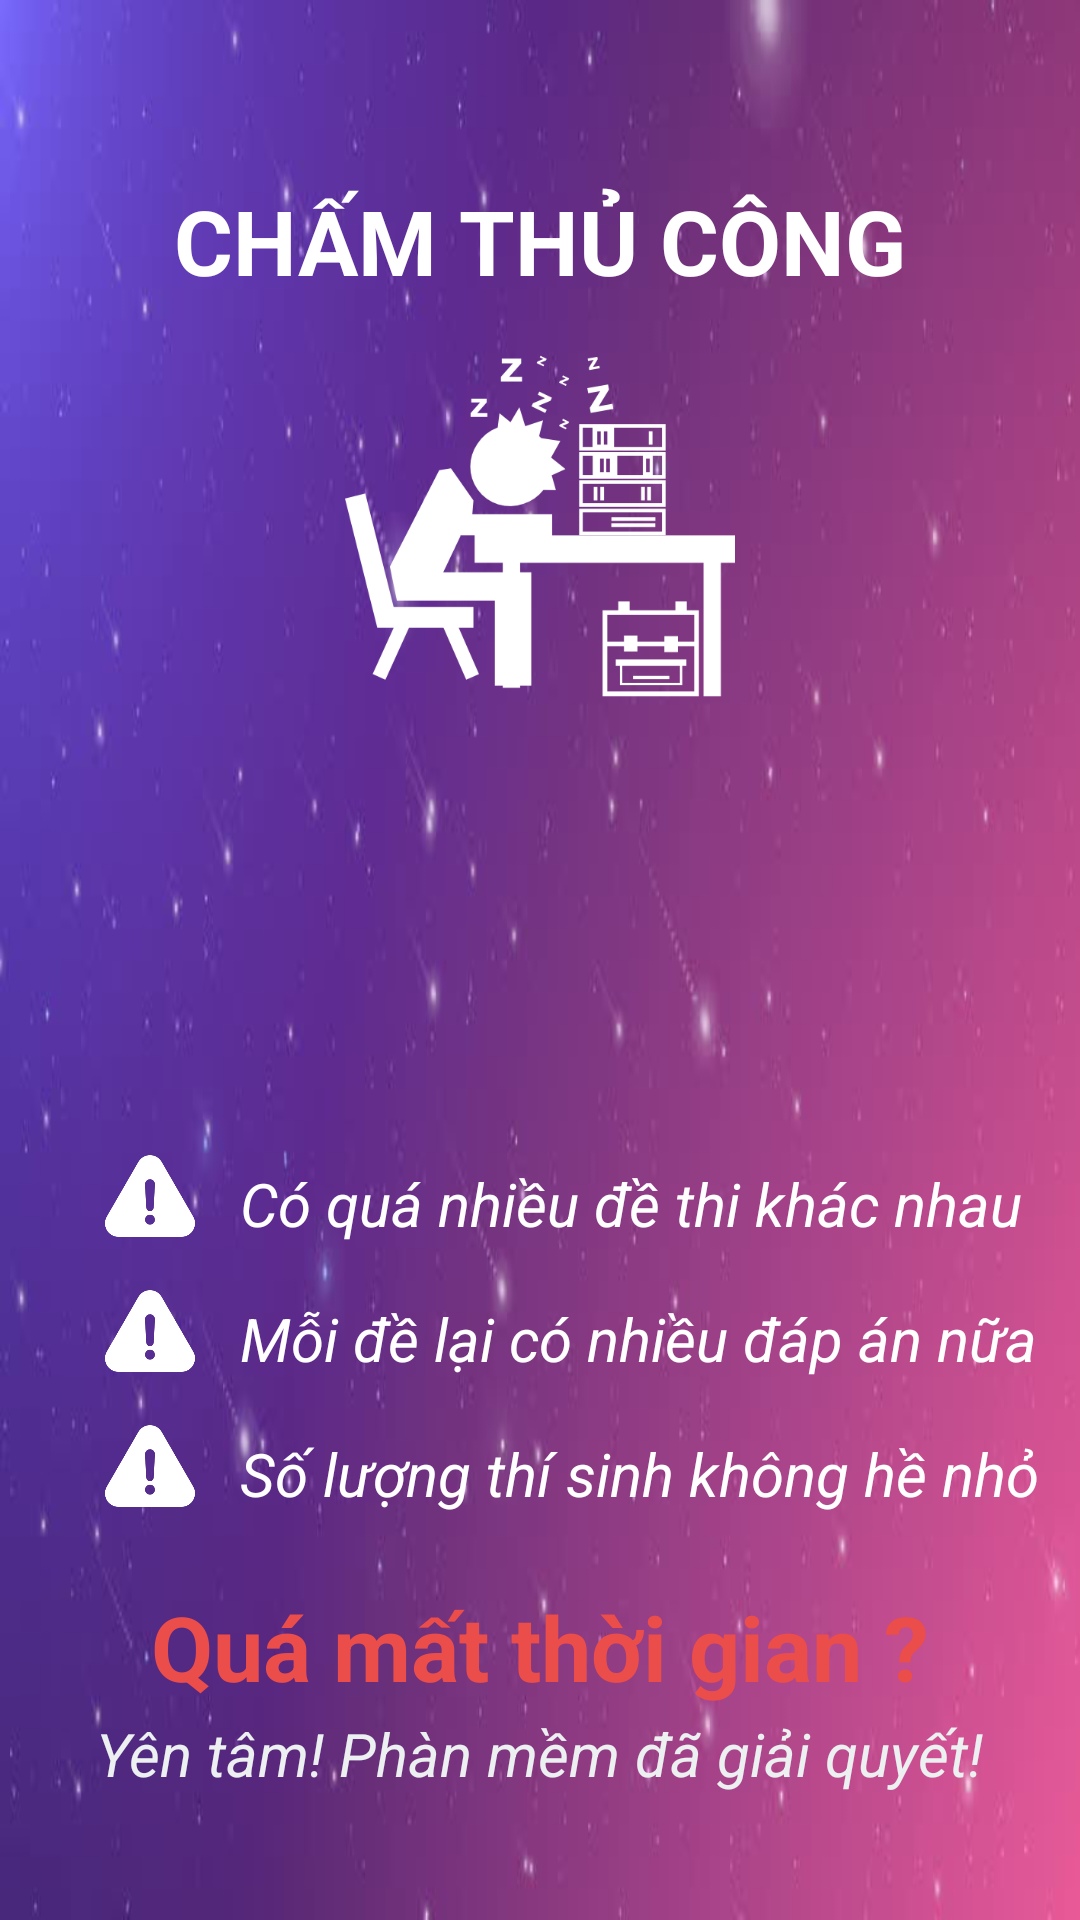

Icons on this 1080px x 1920px Android screen, each with its box as [x1=x1, y1=y1, x2=x2, y2=y2]:
warning: [x1=105, y1=1155, x2=198, y2=1237], [x1=105, y1=1290, x2=195, y2=1372], [x1=105, y1=1425, x2=207, y2=1514]
